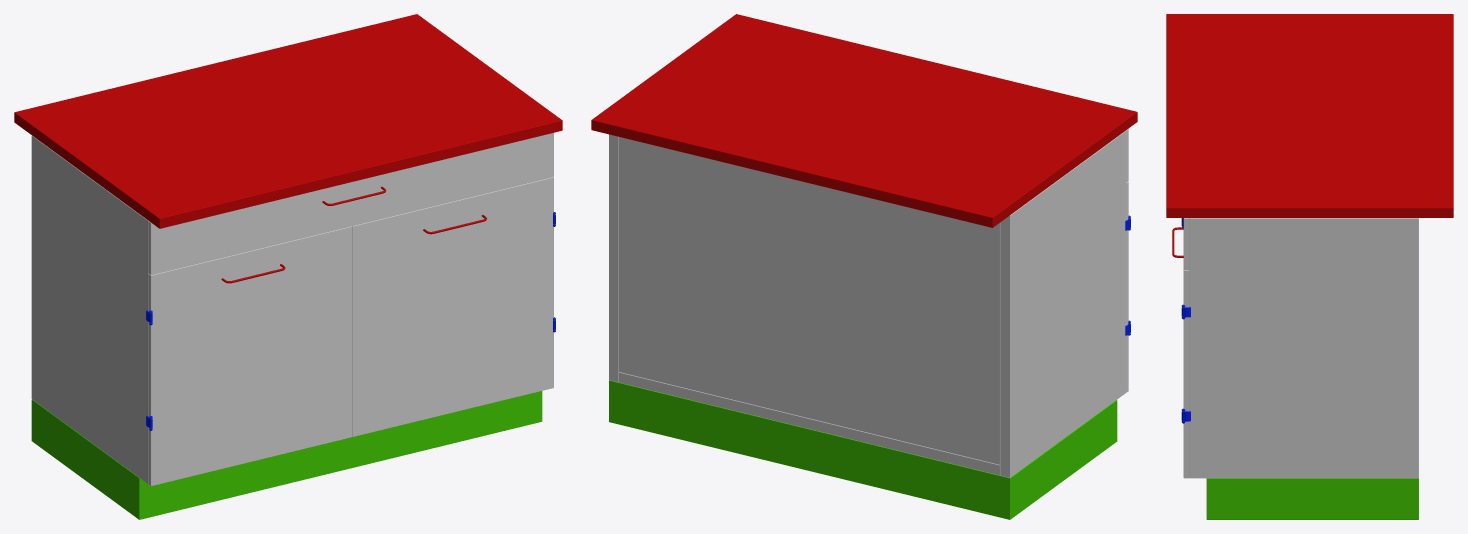
Rendered from Bench02b.fbx.
The picture shows the model from 3 angles, left to right: view 1: azimuth 30°, elevation 25°; view 2: azimuth 150°, elevation 25°; view 3: azimuth 270°, elevation 25°; orthographic projection.
Parts seen in each view (by area): view 1: Bench02b, Drawer02, Drawer03, Drawer01; view 2: Bench02b; view 3: Bench02b, Drawer03, Drawer01.
Part boxes in pixels (x1=…): Bench02b: x1=14, y1=14, x2=562, y2=519; Drawer02: x1=148, y1=226, x2=352, y2=486; Drawer03: x1=352, y1=177, x2=553, y2=436; Drawer01: x1=148, y1=133, x2=553, y2=275; Bench02b: x1=591, y1=14, x2=1137, y2=519; Bench02b: x1=1166, y1=14, x2=1453, y2=519; Drawer03: x1=1172, y1=227, x2=1189, y2=478; Drawer01: x1=1183, y1=218, x2=1189, y2=270.
Size of the model in its own units: 101 by 62.5 by 75.
